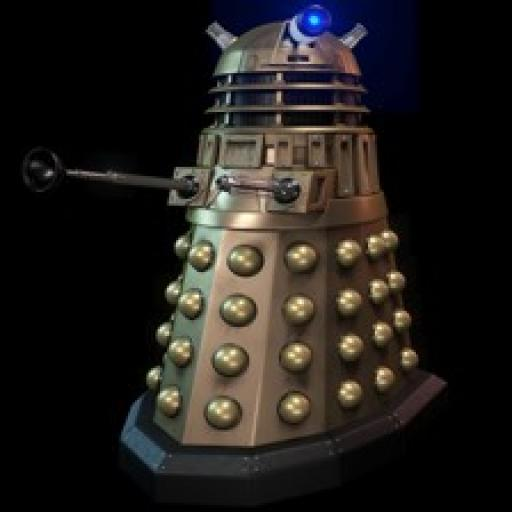dalek: (14, 5, 452, 496)
